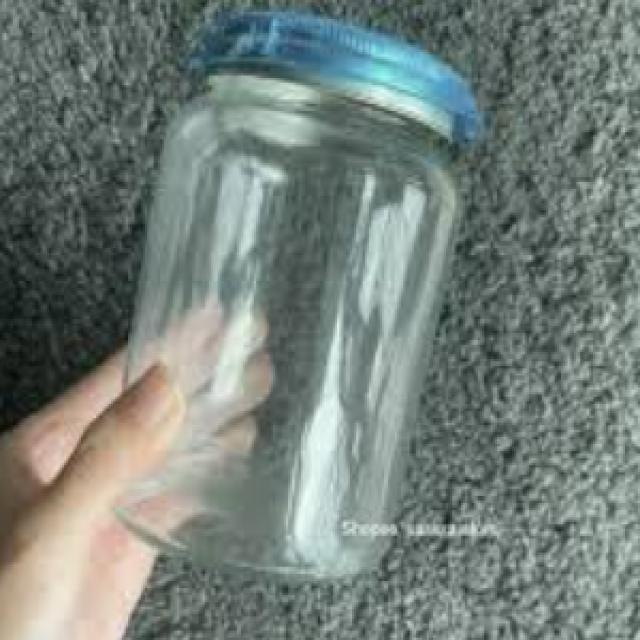ToplesKaca: (111, 5, 484, 583)
